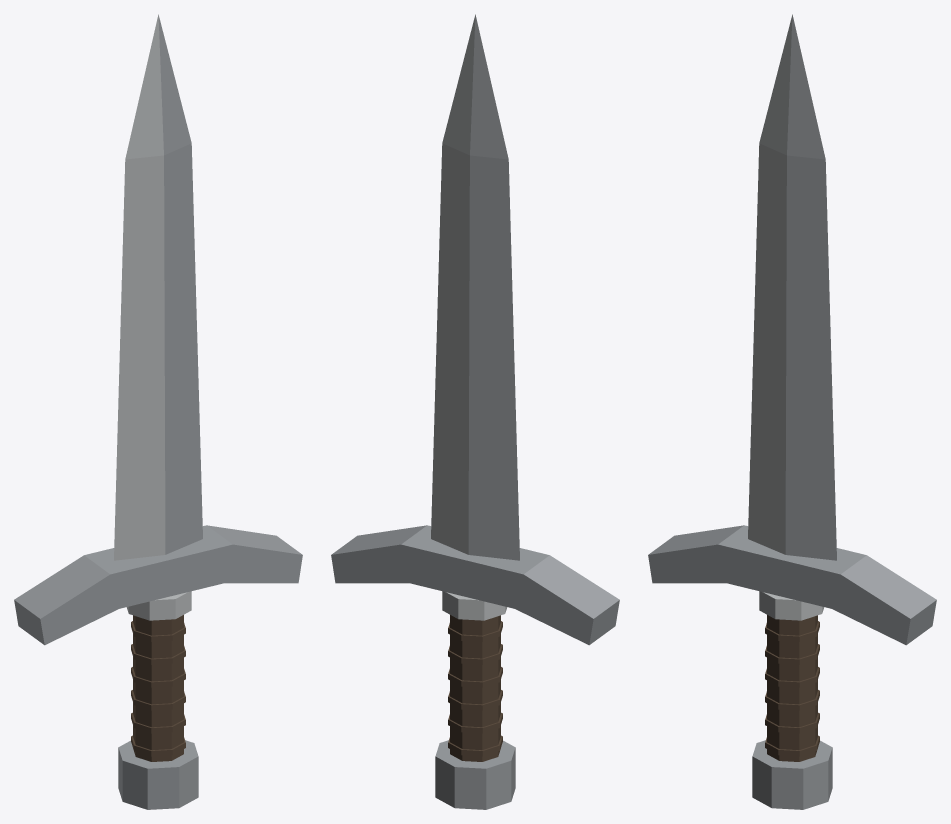
Rendered from sword.glb.
The picture shows the model from 3 angles, left to right: view 1: azimuth 30°, elevation 25°; view 2: azimuth 150°, elevation 25°; view 3: azimuth 330°, elevation 25°; orthographic projection.
Visible parts, largest first — view 1: Weapon_Main; view 2: Weapon_Main; view 3: Weapon_Main.
Part boxes in pixels (left/top/right/bottom): Weapon_Main: left=14, top=14, right=302, bottom=809; Weapon_Main: left=331, top=14, right=619, bottom=809; Weapon_Main: left=648, top=14, right=936, bottom=809.
Bounding box in the file's own units: 0.3 × 0.8505 × 0.082.
